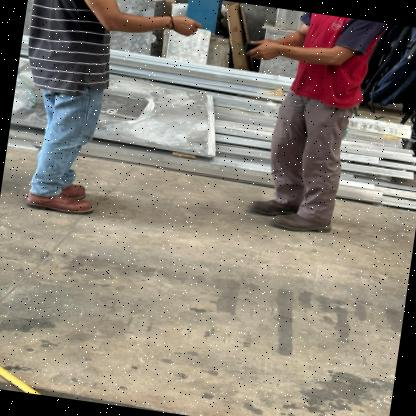bota: (25, 182, 101, 223), (265, 204, 331, 240), (236, 191, 296, 221), (56, 172, 96, 204)
